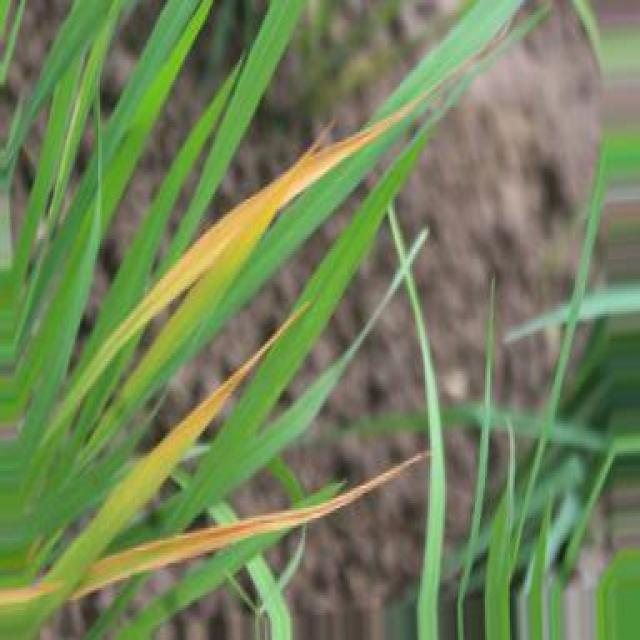Rice Tungro: (56, 100, 424, 419), (48, 307, 306, 580), (70, 453, 429, 599), (0, 579, 54, 606)
